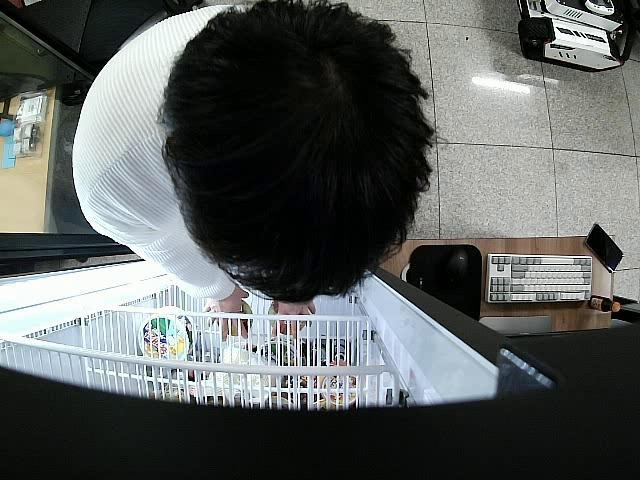04_chapagetti_S: (268, 302, 308, 334), (228, 300, 252, 338)
